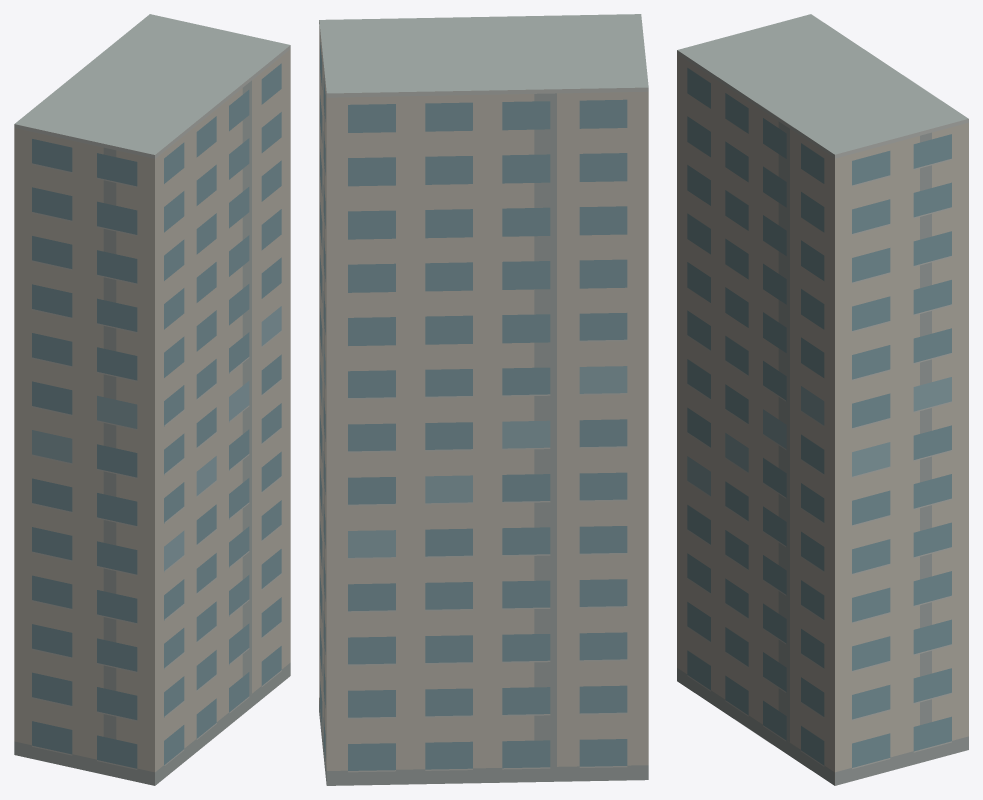
File: residential-1029bea6-b5e6-4405-84c8-6658479f4a6f.glb
The picture shows the model from 3 angles, left to right: view 1: azimuth 30°, elevation 25°; view 2: azimuth 150°, elevation 25°; view 3: azimuth 270°, elevation 25°; orthographic projection. The views are drawn at different scales.
Parts seen in each view (by area): view 1: residential-1029bea6-b5e6-4405-84c8-6658479f4a6f.tmp; view 2: residential-1029bea6-b5e6-4405-84c8-6658479f4a6f.tmp; view 3: residential-1029bea6-b5e6-4405-84c8-6658479f4a6f.tmp.
Boxes of the visible parts, <box> form: residential-1029bea6-b5e6-4405-84c8-6658479f4a6f.tmp: <box>14,14,290,785</box>; residential-1029bea6-b5e6-4405-84c8-6658479f4a6f.tmp: <box>319,14,648,785</box>; residential-1029bea6-b5e6-4405-84c8-6658479f4a6f.tmp: <box>677,14,968,785</box>.
Size of the model in its own units: 19.14 by 40 by 16.76.
